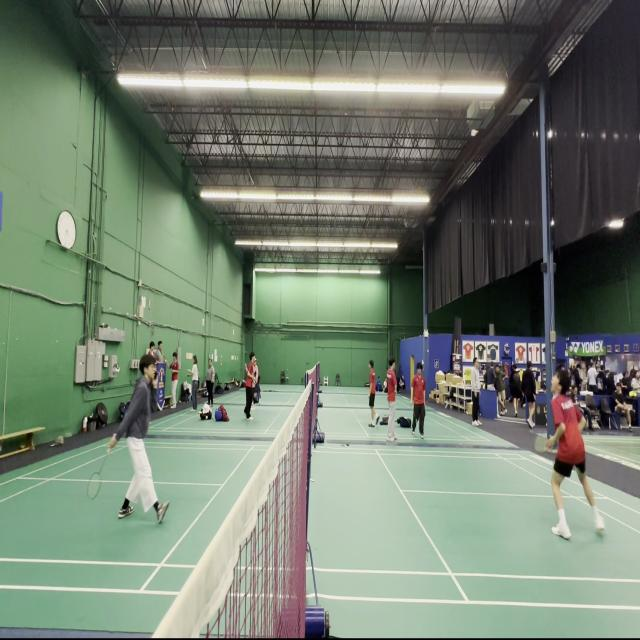shuttlecock: (471, 126, 479, 137)
